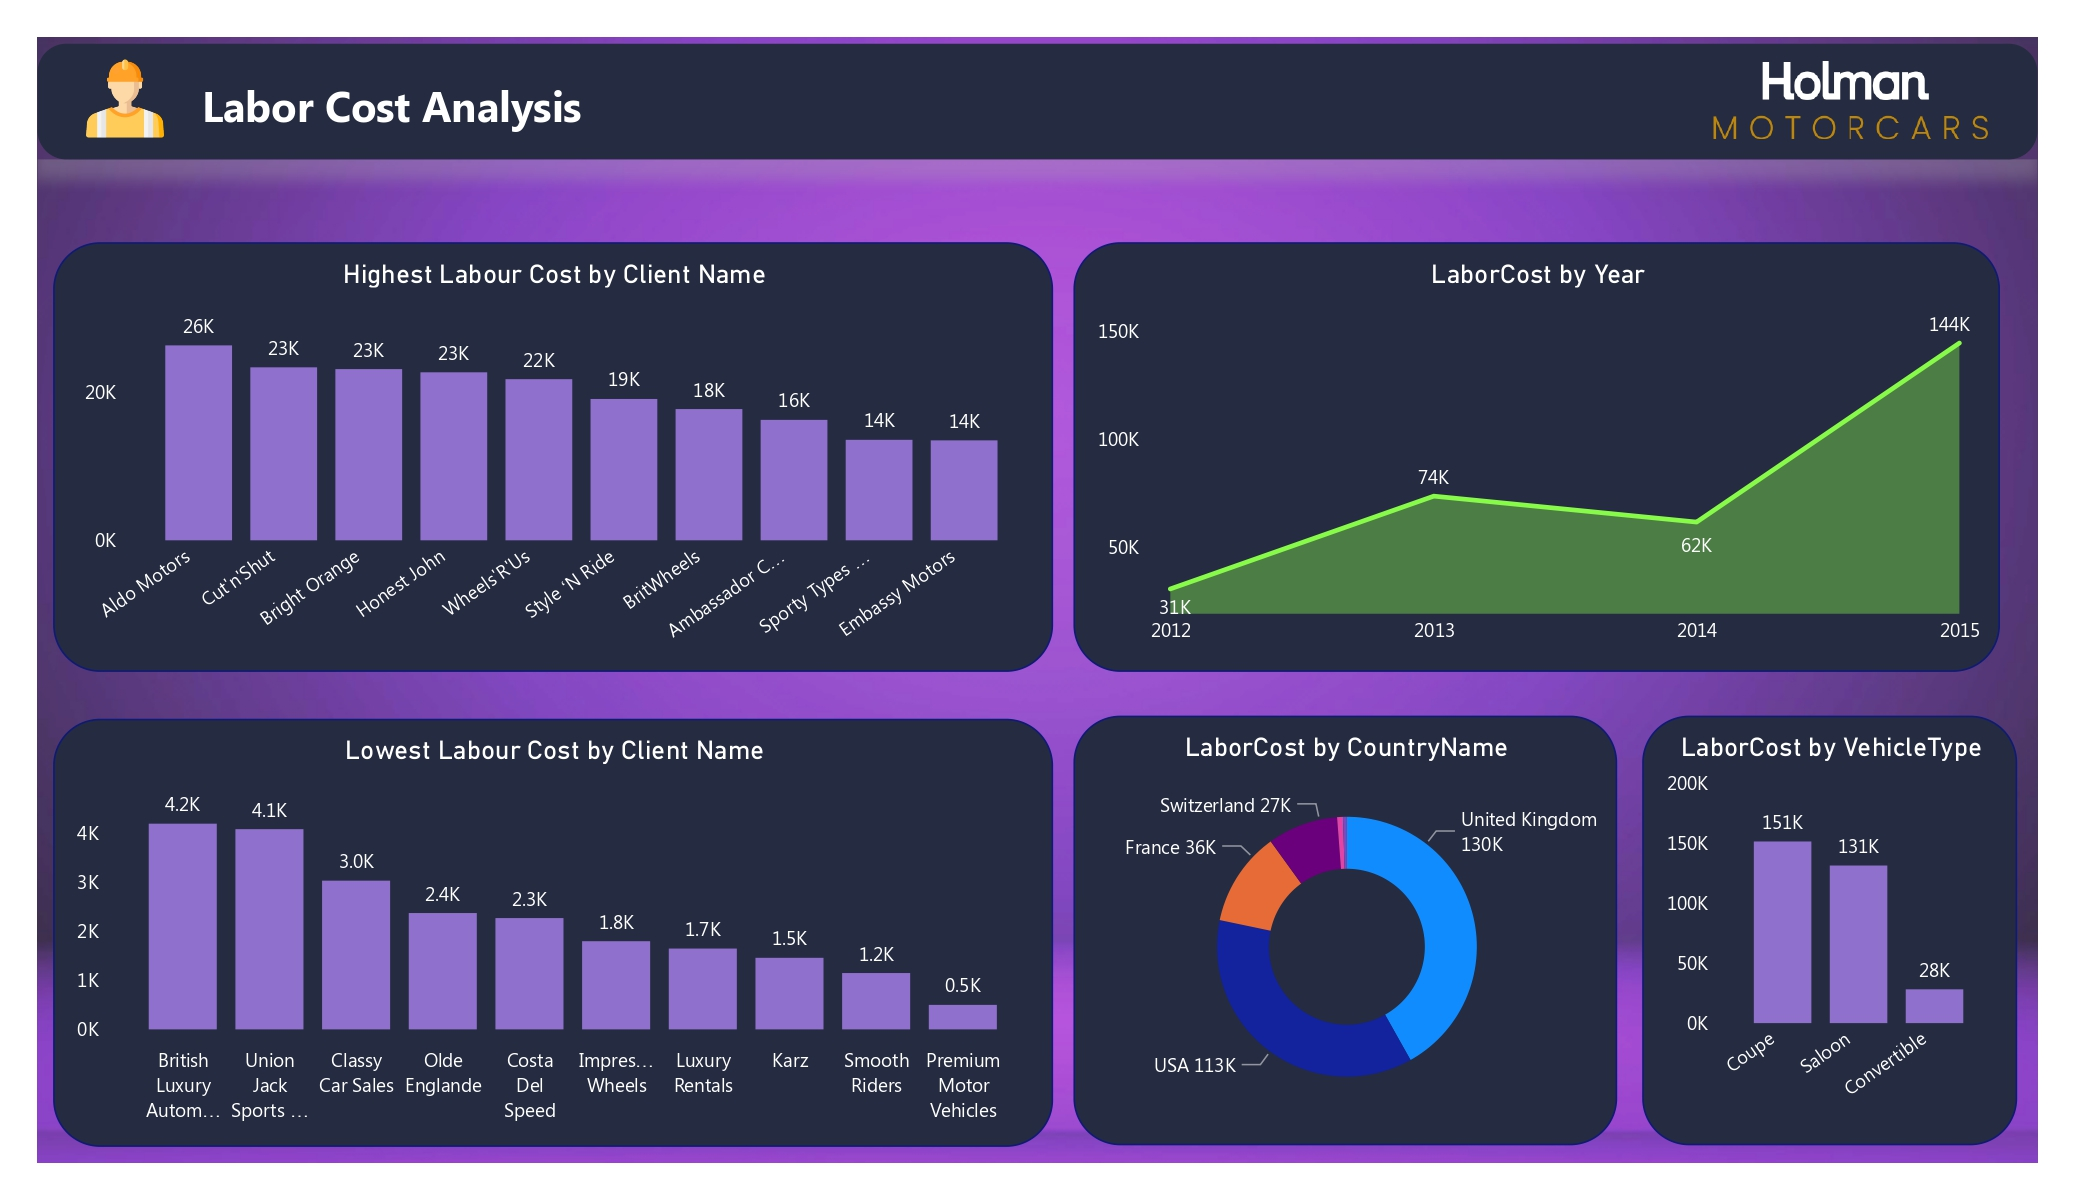

The dashboard page shown, as its layout file describes it:
{"tool":"powerbi","page":{"name":"Labor Cost Analysis","canvas":[1280,720],"ordinal":2},"visuals":[{"type":"clusteredColumnChart","title":"Lowest Labour Cost by Client Name","fields":{"Category":["BaseData.ClientName"],"Y":["Sum(BaseData.LaborCost)"]},"box":[10,435.7,640,274.3],"z":0},{"type":"shape","box":[0,3.8,1280,73.8],"z":1000},{"type":"areaChart","fields":{"Y":["Sum(BaseData.LaborCost)"],"Category":["BaseData.InvoiceDate.Variation.Date Hierarchy.Year"]},"box":[662.9,131.4,592.9,274.3],"z":2000},{"type":"clusteredColumnChart","title":"Highest Labour Cost by Client Name","fields":{"Category":["BaseData.ClientName"],"Y":["Sum(BaseData.LaborCost)"]},"box":[10,131.4,640,274.3],"z":3000},{"type":"donutChart","fields":{"Category":["BaseData.CountryName"],"Y":["Sum(BaseData.LaborCost)"]},"box":[662.9,434.3,348.6,274.3],"z":4000},{"type":"image","box":[25.7,4.3,60,68.6],"z":5000},{"type":"textbox","box":[100,20,300,70],"z":6000},{"type":"columnChart","fields":{"Y":["Sum(BaseData.LaborCost)"],"Category":["BaseData.VehicleType"]},"box":[1027.1,434.3,240,274.3],"z":7000},{"type":"image","box":[1064.3,10,191.4,60],"z":8000}]}

Visuals, with their boxes on the page's 1280x720 design canvas (x1, y1, x2, y2). These are canvas units, not pixel positions in the 2075x1200 screenshot, which may show the page scaled, cropped or inside an application window:
"Lowest Labour Cost by Client Name" clusteredColumnChart: <box>10,436,650,710</box>
shape: <box>0,4,1280,78</box>
areaChart - Sum(BaseData.LaborCost) x BaseData.InvoiceDate.Variation.Date Hierarchy.Year: <box>663,131,1256,406</box>
"Highest Labour Cost by Client Name" clusteredColumnChart: <box>10,131,650,406</box>
donutChart - BaseData.CountryName x Sum(BaseData.LaborCost): <box>663,434,1012,709</box>
image: <box>26,4,86,73</box>
textbox: <box>100,20,400,90</box>
columnChart - Sum(BaseData.LaborCost) x BaseData.VehicleType: <box>1027,434,1267,709</box>
image: <box>1064,10,1256,70</box>
